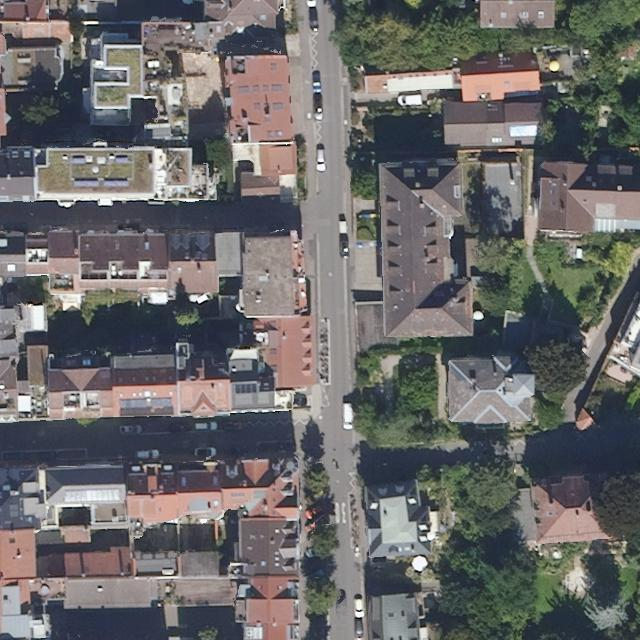PV: (56, 486, 124, 506), (120, 397, 172, 413), (233, 381, 259, 394), (510, 124, 536, 137), (504, 91, 541, 99)
